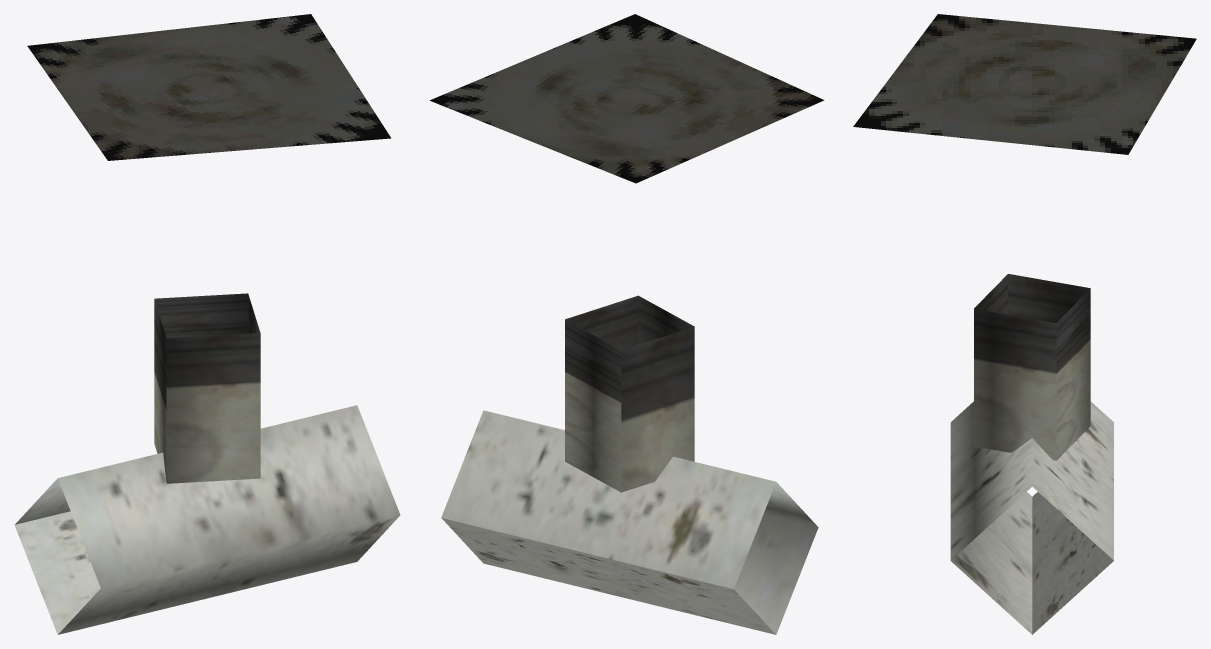
File: p6_garage_pipes_sprinkler_lod2.glb
3 views of the same model, side by side, from view 1: azimuth 30°, elevation 25°; view 2: azimuth 150°, elevation 25°; view 3: azimuth 270°, elevation 25° (orthographic). The views are drawn at different scales.
Parts seen in each view (by area): view 1: surf0, surf1, surf2; view 2: surf0, surf1, surf2; view 3: surf1, surf0, surf2.
Part boxes in pixels (bbox=[...]): surf0: bbox=[14, 405, 400, 634]; surf1: bbox=[27, 14, 391, 160]; surf2: bbox=[154, 293, 260, 483]; surf0: bbox=[441, 410, 818, 634]; surf1: bbox=[429, 14, 824, 183]; surf2: bbox=[565, 295, 694, 492]; surf1: bbox=[853, 14, 1196, 154]; surf0: bbox=[950, 401, 1113, 634]; surf2: bbox=[974, 274, 1090, 460].
Bounding box in the file's own units: 4.06 × 6.53 × 4.2.
